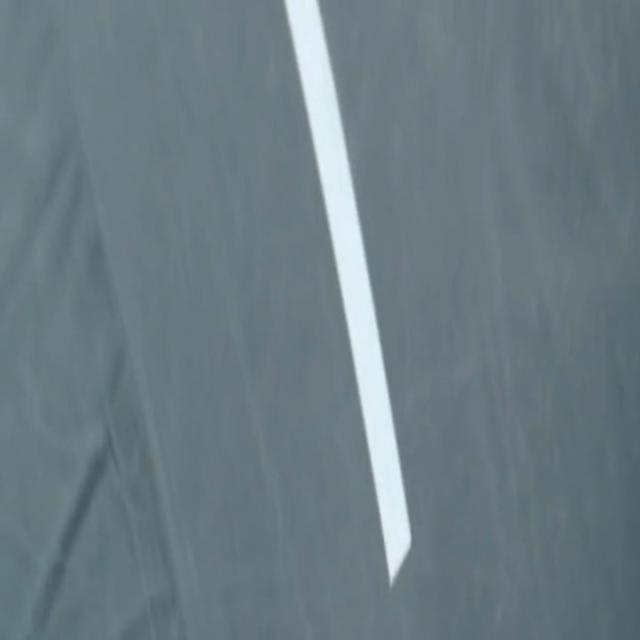center: (284, 0, 411, 585)
